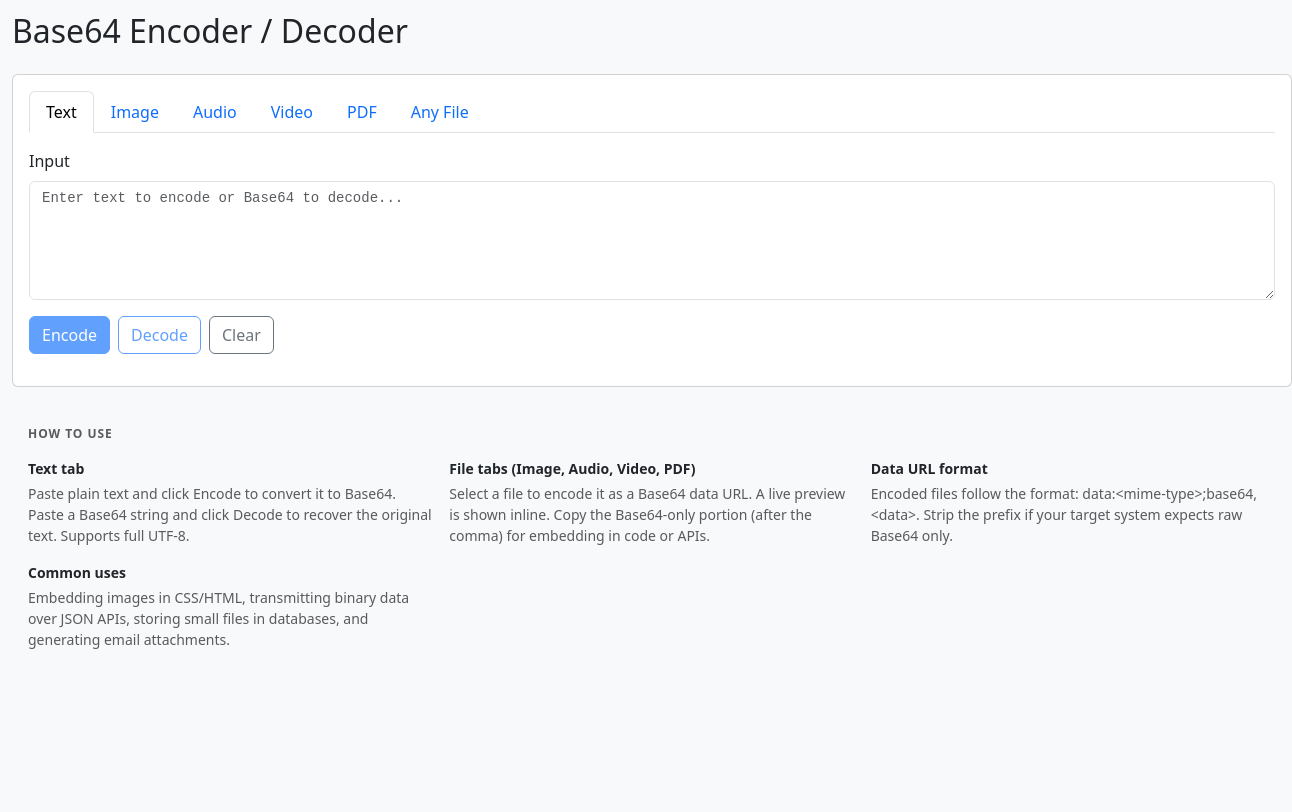
Base64Tool — Text tab › encodes text on Encode click
Type "hello" into the text box named "Text input".
click(652, 241); type("hello")  # box [29, 181, 1275, 300]
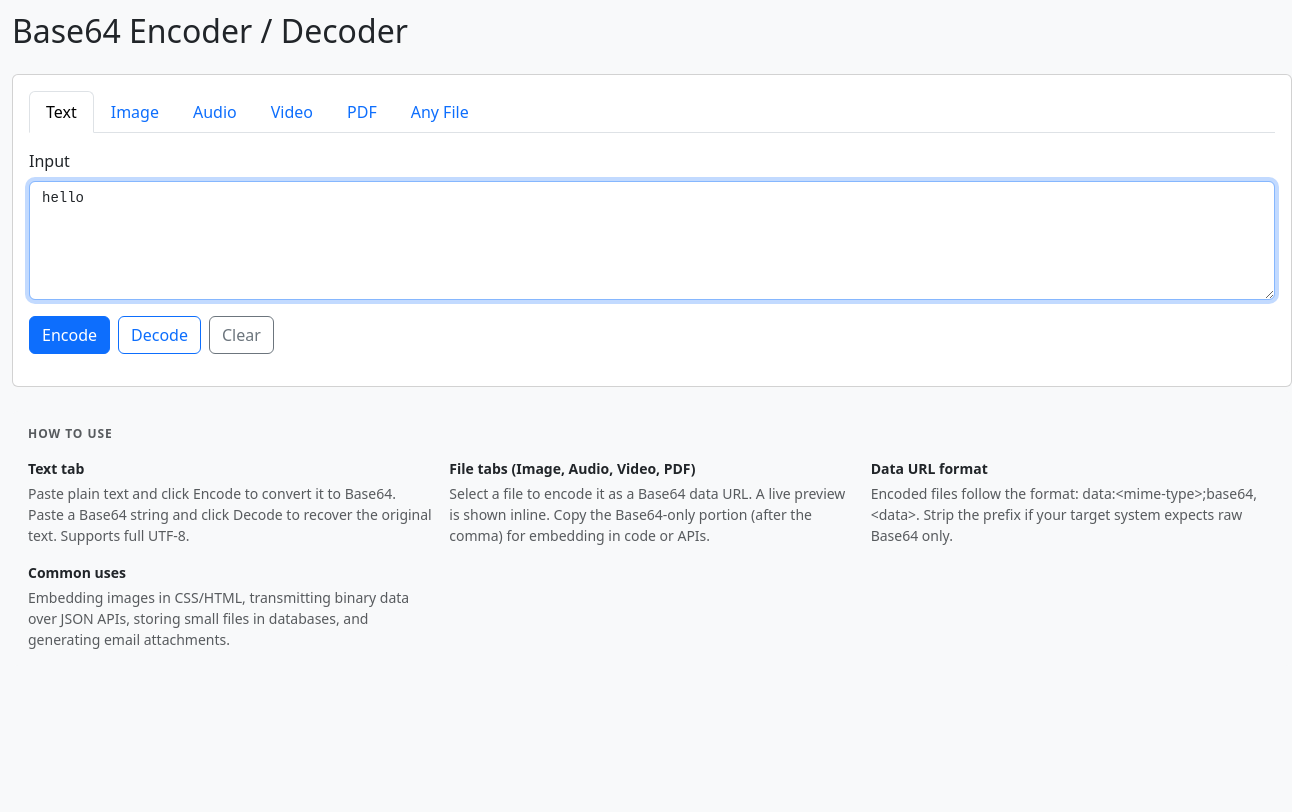
Click the button "Encode".
click(70, 335)  # box [29, 316, 110, 354]
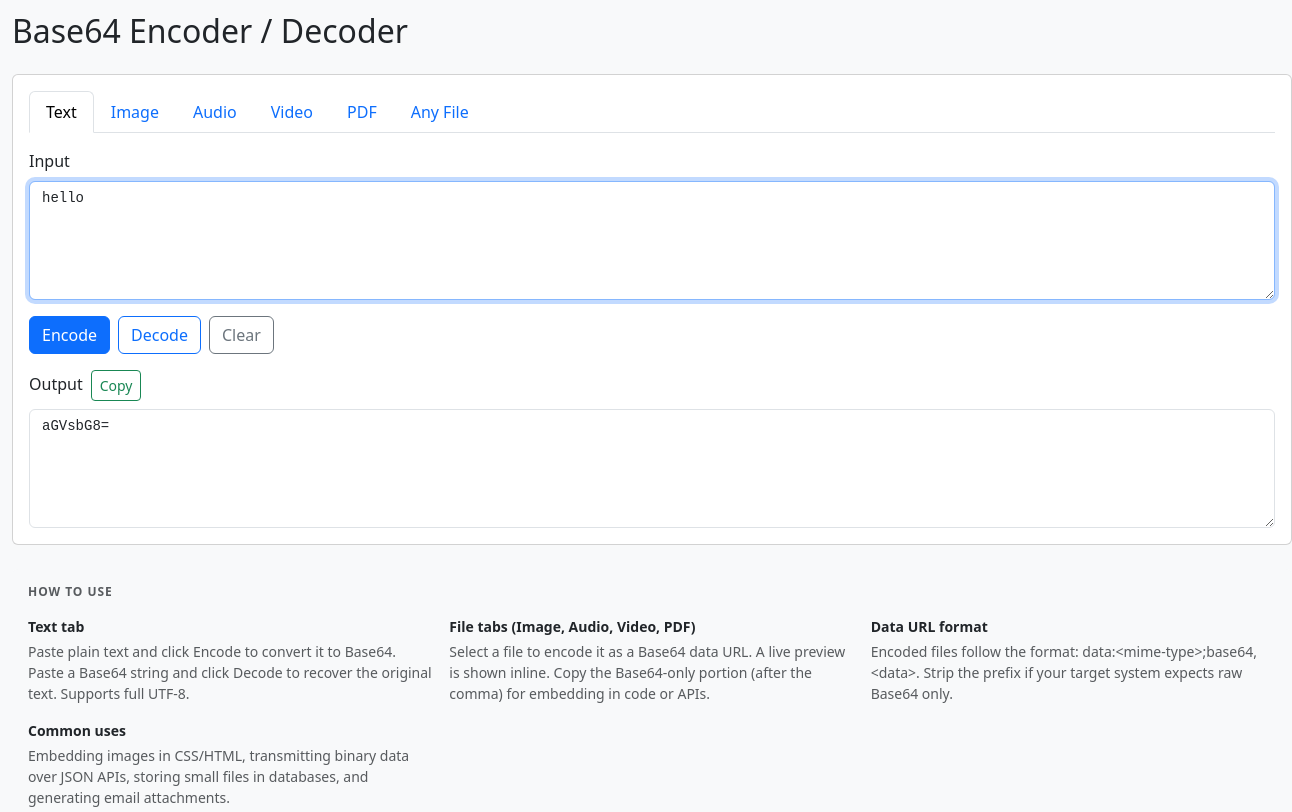
Check: the text box named "Text output" holds "aGVsbG8=", box [29, 409, 1275, 528]
